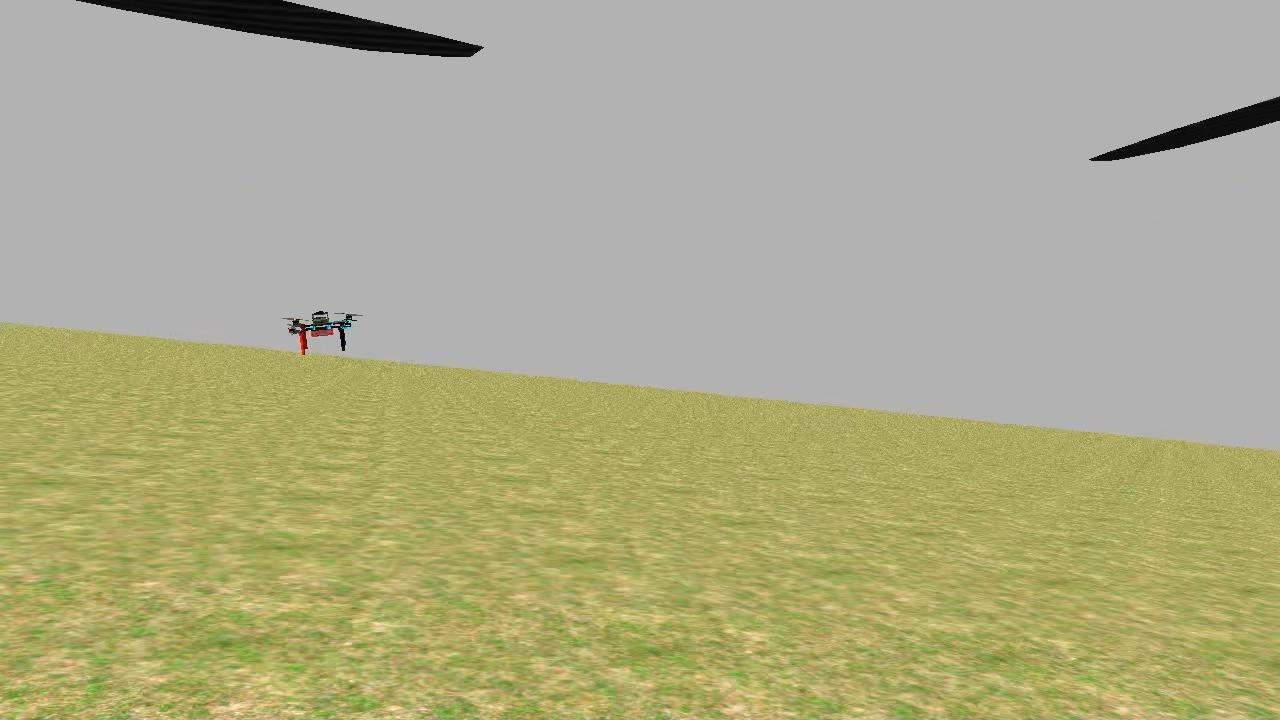UAV: (282, 306, 366, 359)
